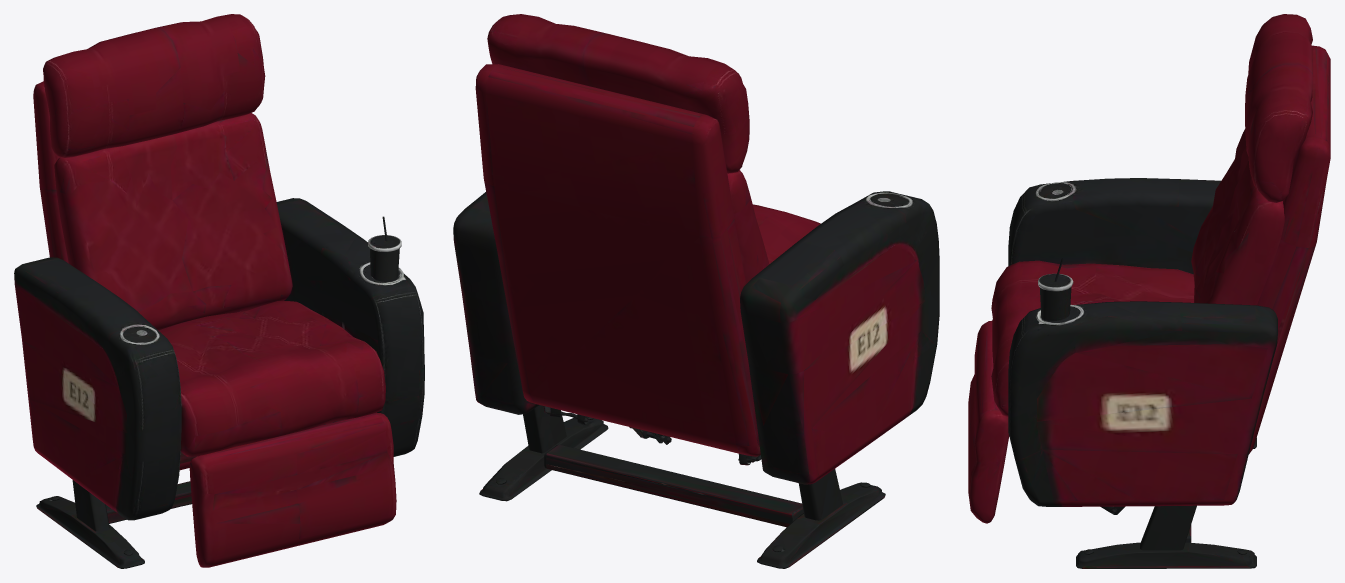
The model's file is seat.glb.
3 views of the same model, side by side, from view 1: azimuth 30°, elevation 25°; view 2: azimuth 150°, elevation 25°; view 3: azimuth 270°, elevation 25° (orthographic). The views are drawn at different scales.
Size of the model in its own units: 0.6758 by 0.9526 by 0.7016.
1 material, 1 textured.
